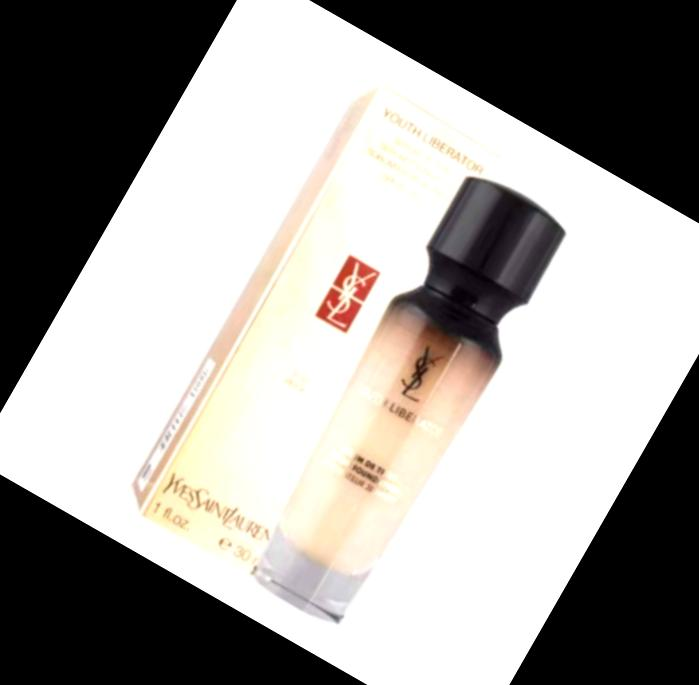cosmetic: (234, 170, 575, 635)
